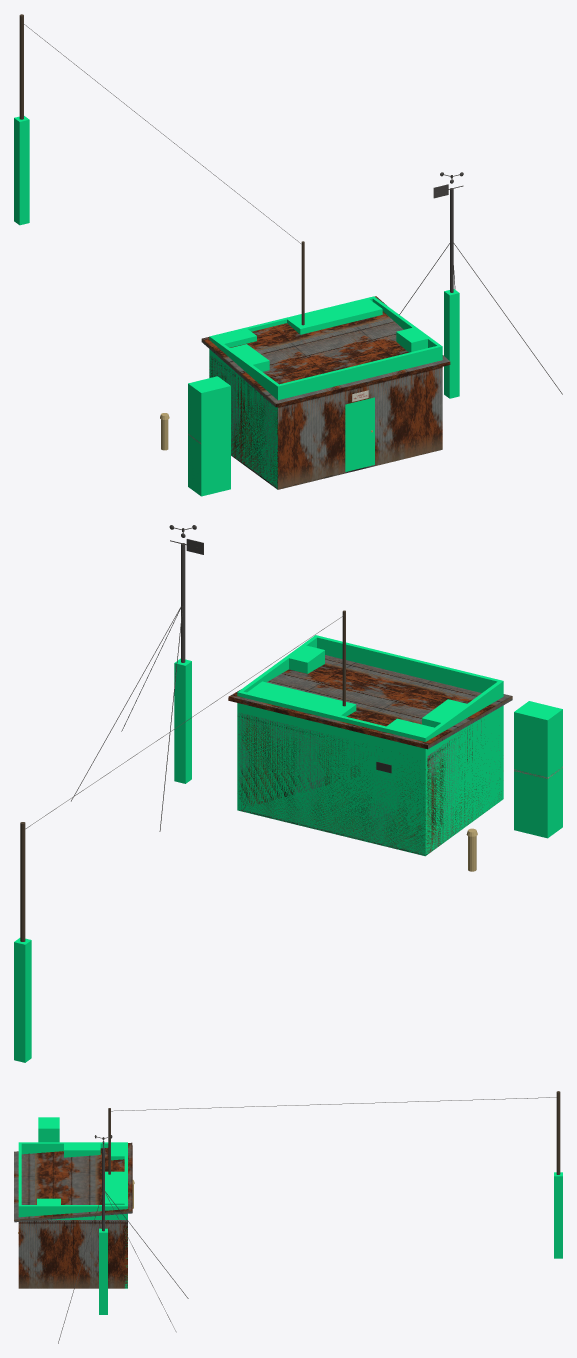
The model's file is comms_shelter.glb.
3 renders of one model, top to bottom at view 1: azimuth 30°, elevation 25°; view 2: azimuth 150°, elevation 25°; view 3: azimuth 270°, elevation 25°, orthographic. The views are drawn at different scales.
Parts seen in each view (by area): view 1: CommsShelter, COL_cs_w0, COL_cs_screen, COL_Door_CommsShelter, COL_cs_aerialpole, COL_cs_mast, COL_cs_radio, COL_cs_s0, Comms_Aerial, COL_cs_s1, Comms_Mast, COL_cs_n0; view 2: COL_cs_n0, CommsShelter, COL_cs_w0, COL_cs_screen, COL_cs_aerialpole, COL_cs_mast, COL_cs_s0, Comms_Mast, COL_cs_radio, Comms_Aerial, COL_cs_s1, COL_cs_e0 (+1 smaller); view 3: CommsShelter, COL_cs_e0, Comms_Aerial, COL_cs_aerialpole, COL_cs_mast, Comms_Mast, COL_cs_radio, COL_cs_w0, COL_cs_screen, COL_cs_relay, COL_cs_n0.
Part boxes in pixels (bbox=[...]): CommsShelter: bbox=[201, 296, 450, 489]; COL_cs_w0: bbox=[209, 335, 281, 486]; COL_cs_screen: bbox=[188, 376, 230, 496]; COL_Door_CommsShelter: bbox=[344, 361, 374, 471]; COL_cs_aerialpole: bbox=[14, 116, 29, 225]; COL_cs_mast: bbox=[444, 289, 459, 398]; COL_cs_radio: bbox=[287, 299, 382, 334]; COL_cs_s0: bbox=[276, 368, 345, 489]; Comms_Aerial: bbox=[19, 14, 304, 325]; COL_cs_s1: bbox=[373, 346, 439, 376]; Comms_Mast: bbox=[399, 184, 562, 394]; COL_cs_n0: bbox=[209, 297, 372, 377]; COL_cs_n0: bbox=[237, 691, 427, 855]; CommsShelter: bbox=[228, 655, 512, 855]; COL_cs_w0: bbox=[421, 680, 503, 855]; COL_cs_screen: bbox=[514, 701, 562, 838]; COL_cs_aerialpole: bbox=[14, 938, 31, 1062]; COL_cs_mast: bbox=[174, 658, 191, 783]; COL_cs_s0: bbox=[424, 662, 503, 799]; Comms_Mast: bbox=[71, 539, 203, 831]; COL_cs_radio: bbox=[247, 681, 356, 716]; Comms_Aerial: bbox=[20, 610, 345, 941]; COL_cs_s1: bbox=[317, 636, 392, 670]; COL_cs_e0: bbox=[237, 635, 318, 811]; CommsShelter: bbox=[14, 1142, 132, 1288]; COL_cs_e0: bbox=[18, 1205, 127, 1219]; Comms_Aerial: bbox=[108, 1091, 560, 1174]; COL_cs_aerialpole: bbox=[554, 1172, 562, 1258]; COL_cs_mast: bbox=[99, 1228, 107, 1314]; Comms_Mast: bbox=[58, 1137, 188, 1343]; COL_cs_radio: bbox=[105, 1171, 124, 1204]; COL_cs_w0: bbox=[18, 1142, 127, 1154]; COL_cs_screen: bbox=[38, 1117, 59, 1142]; COL_cs_relay: bbox=[64, 1143, 100, 1157]; COL_cs_n0: bbox=[124, 1143, 127, 1288].
Bounding box in the file's own units: 11.36 × 6.41 × 18.1.
Materials: 20 (8 with a texture image).
